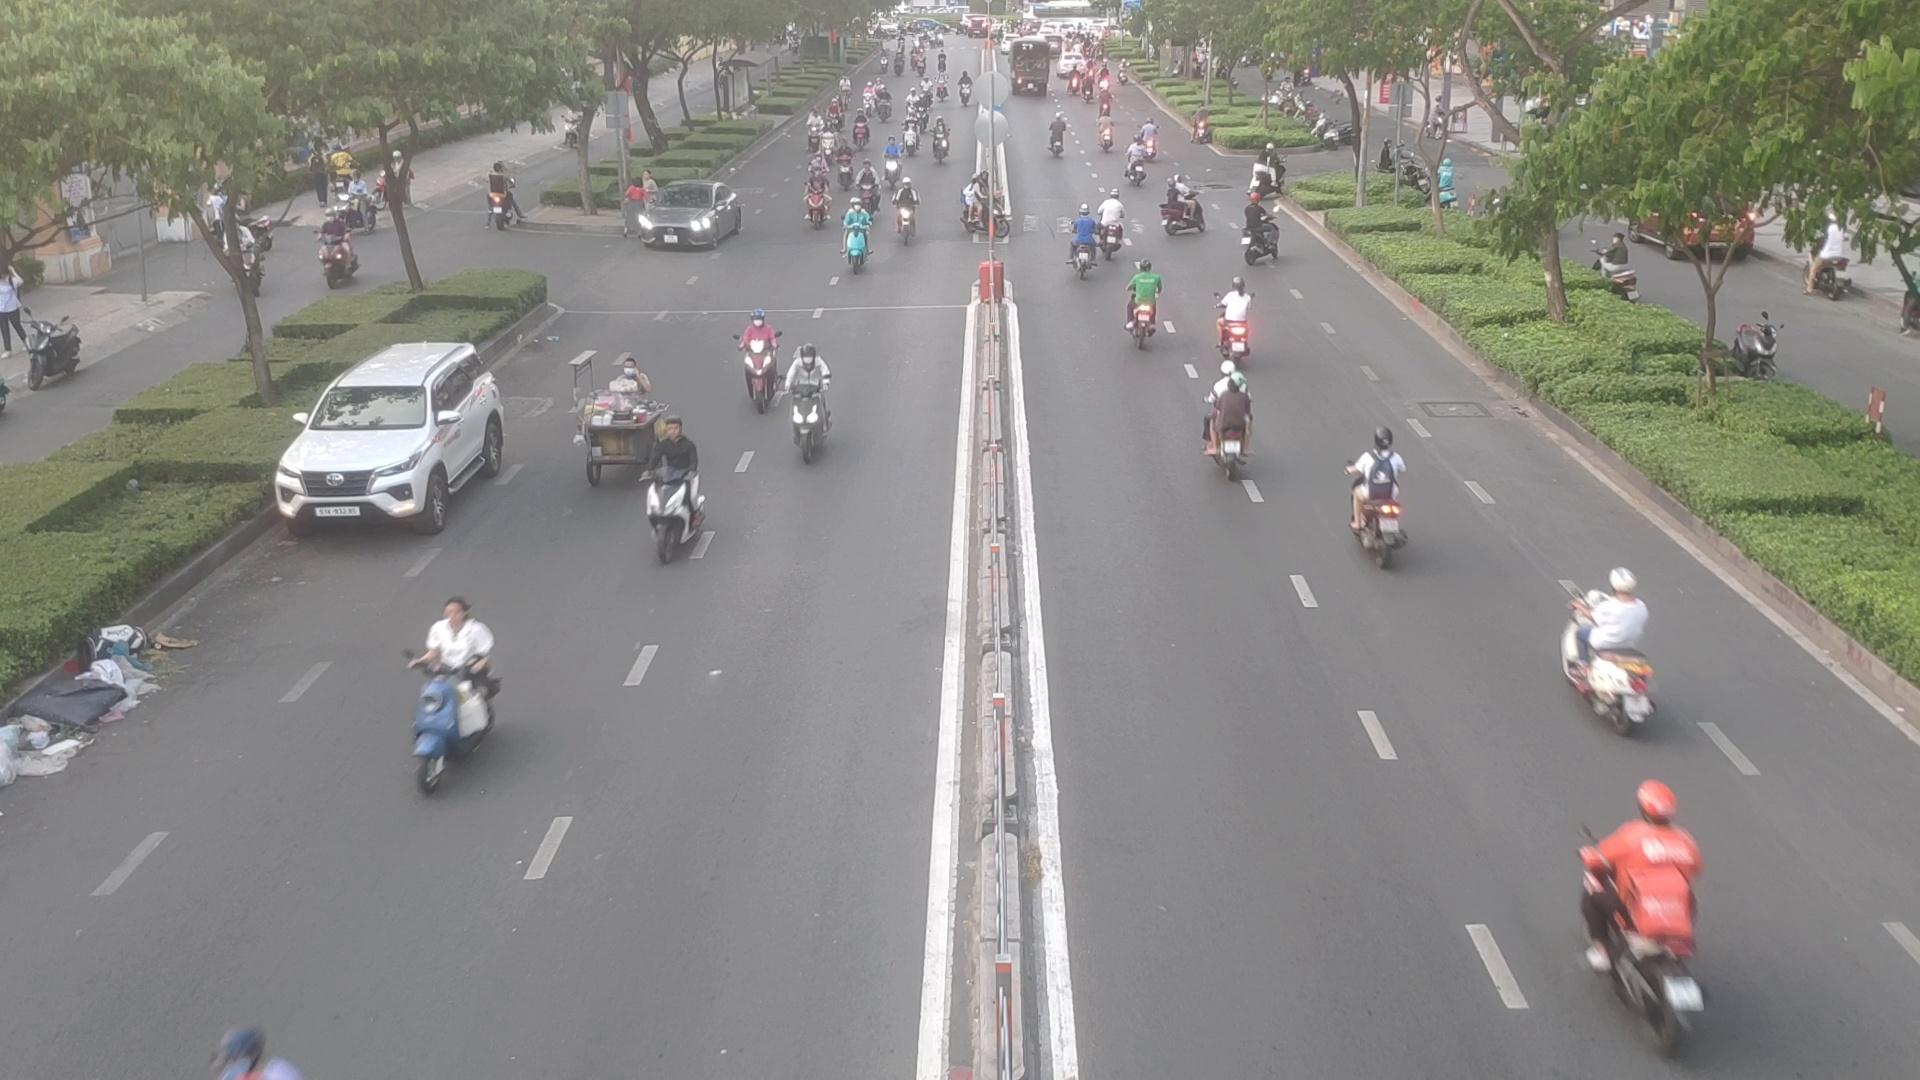car: (278, 338, 520, 527), (621, 186, 750, 255)
motorbike: (1565, 782, 1726, 1050), (397, 599, 509, 781), (1561, 574, 1671, 724), (634, 418, 713, 556), (1337, 435, 1412, 560), (773, 338, 844, 460), (1201, 371, 1269, 483), (735, 301, 785, 421), (1125, 264, 1175, 349), (964, 174, 1021, 244), (1063, 208, 1116, 280), (1220, 285, 1262, 367), (796, 160, 833, 233), (837, 199, 874, 272), (1159, 185, 1205, 240), (890, 179, 926, 251), (1244, 204, 1284, 265), (1124, 146, 1153, 186)
